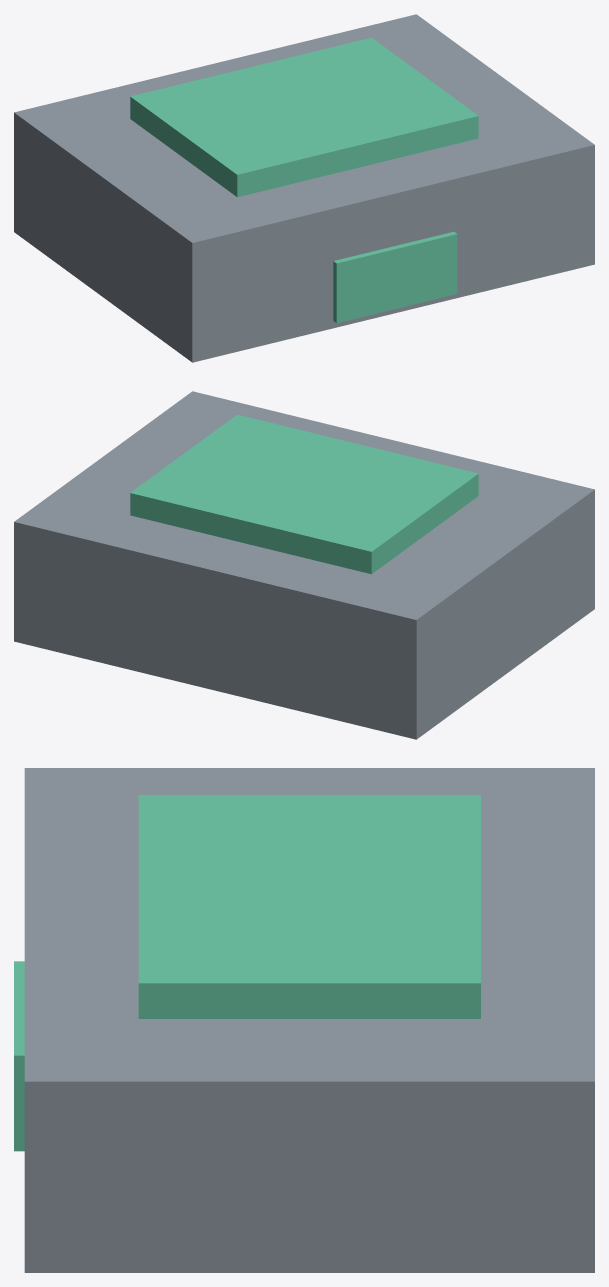
Rendered from CO_LeiheGunship_LOD0.glb.
3 renders of one model, top to bottom at view 1: azimuth 30°, elevation 25°; view 2: azimuth 150°, elevation 25°; view 3: azimuth 270°, elevation 25°, orthographic. The views are drawn at different scales.
Visible parts, largest first — view 1: EntranceGate; view 2: EntranceGate; view 3: EntranceGate.
Part boxes in pixels (x1,y1,x2,y2): EntranceGate: [14, 14, 594, 362]; EntranceGate: [14, 391, 594, 739]; EntranceGate: [14, 768, 594, 1272].
Bounding box in the file's own units: 690 × 233 × 540.
